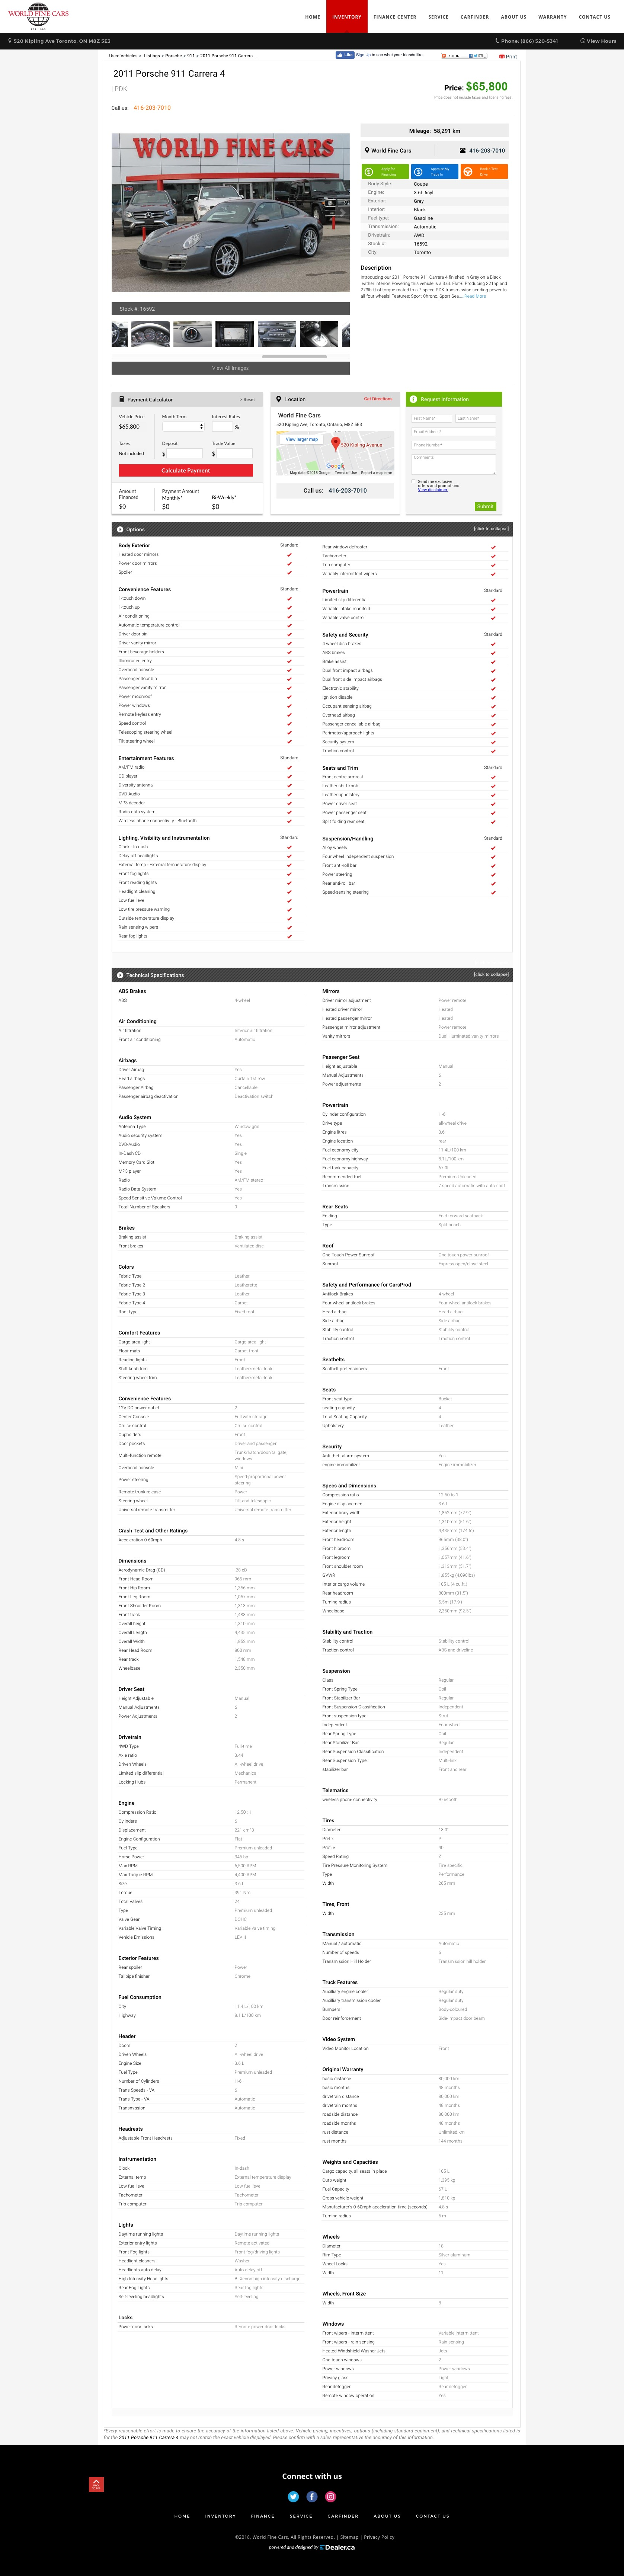car: (340, 209, 346, 218)
